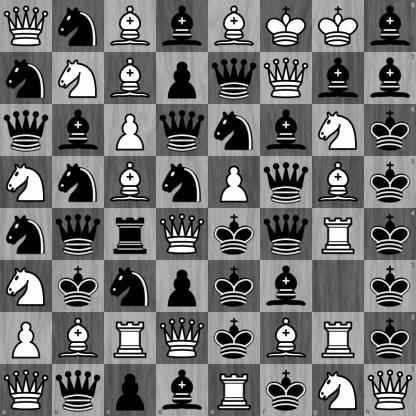B: (53, 313, 104, 364), (105, 1, 156, 52), (105, 53, 156, 104), (105, 157, 156, 208), (209, 1, 260, 52), (261, 313, 312, 364), (313, 157, 364, 208)
K: (261, 1, 312, 52), (313, 1, 364, 52)
N: (312, 364, 364, 416), (1, 157, 52, 208), (1, 261, 52, 312), (53, 53, 104, 104), (313, 105, 364, 156)
P: (1, 313, 52, 364), (105, 105, 156, 156), (209, 157, 260, 208)
Q: (0, 364, 52, 416), (364, 364, 416, 416), (1, 1, 52, 52), (157, 209, 208, 260), (157, 313, 208, 364), (261, 53, 312, 104)
R: (209, 364, 260, 416), (105, 313, 156, 364), (313, 209, 364, 260), (313, 313, 364, 364)
b: (156, 364, 209, 416), (364, 0, 416, 52), (364, 52, 416, 104), (53, 105, 104, 156), (157, 1, 208, 52), (261, 105, 312, 156), (261, 261, 312, 312), (313, 53, 364, 104)
board: (0, 0, 415, 415)
k: (364, 156, 416, 209), (260, 364, 312, 416), (364, 104, 416, 156), (364, 260, 416, 312), (364, 312, 416, 364), (364, 209, 416, 260), (53, 261, 104, 312), (209, 209, 260, 260), (209, 261, 260, 312), (209, 313, 260, 364)
n: (1, 53, 52, 104), (1, 209, 52, 260), (53, 1, 104, 52), (53, 157, 104, 208), (105, 261, 156, 312), (157, 157, 208, 208), (209, 105, 260, 156)
p: (104, 364, 156, 416), (157, 53, 208, 104), (157, 261, 208, 312)
q: (52, 364, 104, 416), (1, 105, 52, 156), (53, 209, 104, 260), (157, 105, 208, 156), (209, 53, 260, 104), (261, 157, 312, 208), (261, 209, 312, 260)
r: (105, 209, 156, 260)
